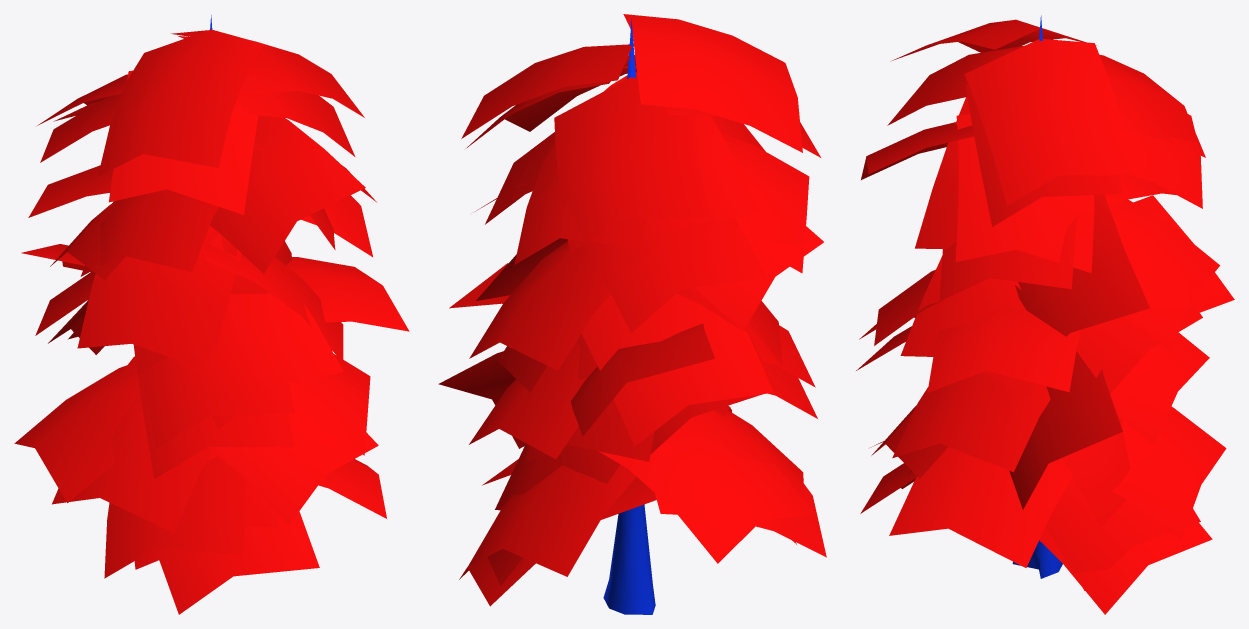
The model's file is Pine_Tree_01.FBX.
3 renders of one model, left to right at view 1: azimuth 30°, elevation 25°; view 2: azimuth 150°, elevation 25°; view 3: azimuth 270°, elevation 25°, orthographic. The views are drawn at different scales.
Parts seen in each view (by area): view 1: tree1_trunk; view 2: tree1_trunk; view 3: tree1_trunk.
Boxes of the visible parts, box(x1,y1,x2,y2) form: tree1_trunk: box(14, 15, 409, 614); tree1_trunk: box(438, 14, 826, 614); tree1_trunk: box(856, 15, 1234, 614).
Bounding box in the file's own units: 1805 × 3013 × 1878.
